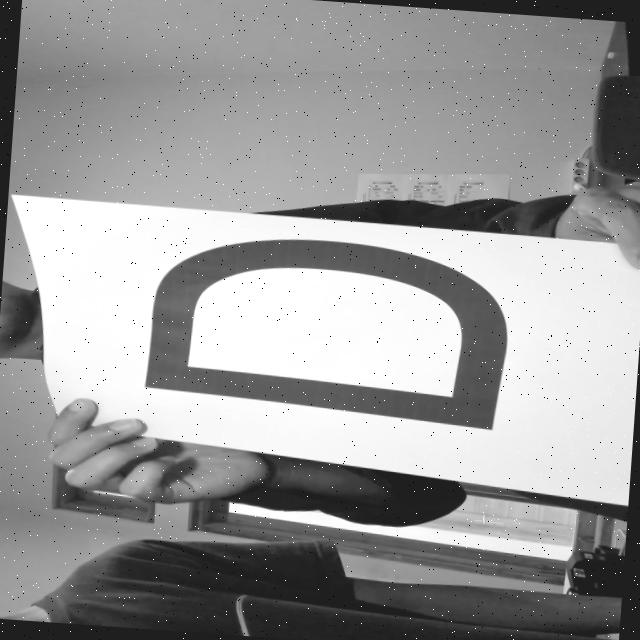d: (123, 212, 528, 440)
